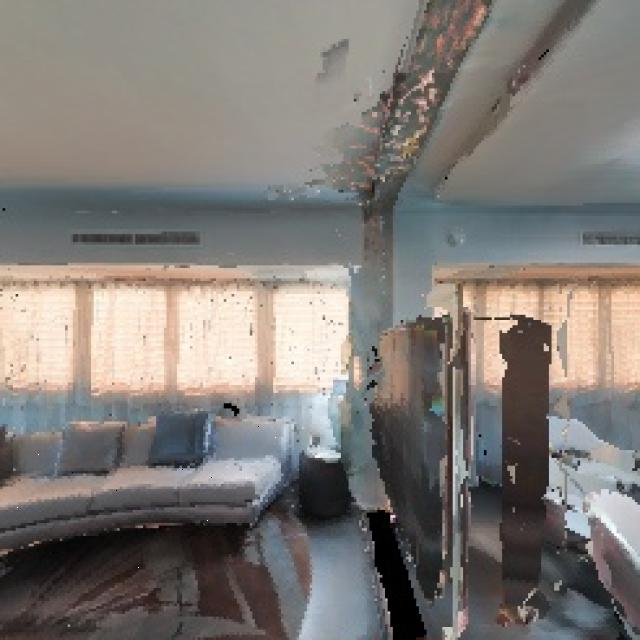sofa: (0, 388, 287, 572)
